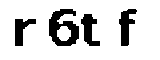6: (45, 6, 81, 50)
f: (114, 3, 142, 52)
r: (9, 16, 38, 47)
t: (80, 11, 105, 50)
